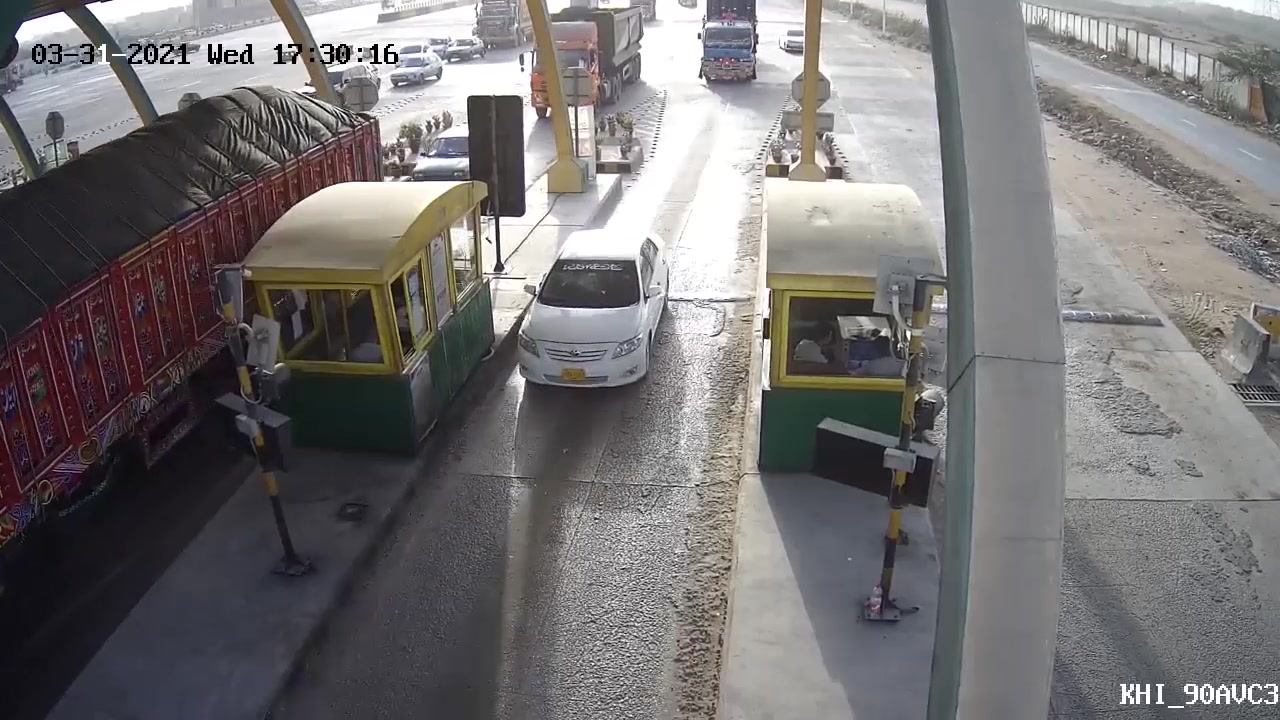F1: (501, 222, 679, 403)
